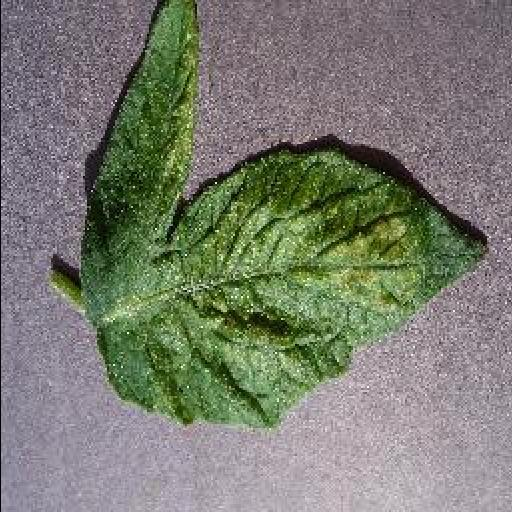disease_tomato: (84, 0, 486, 428)
